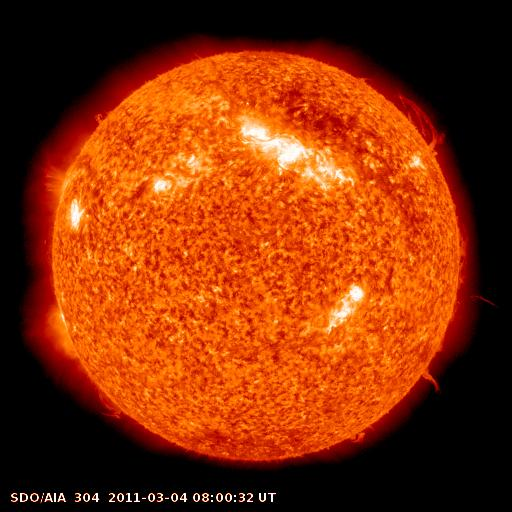prominence: (343, 69, 466, 161), (441, 197, 509, 331), (90, 380, 141, 428), (405, 358, 449, 399), (85, 100, 132, 137), (340, 421, 377, 454)
